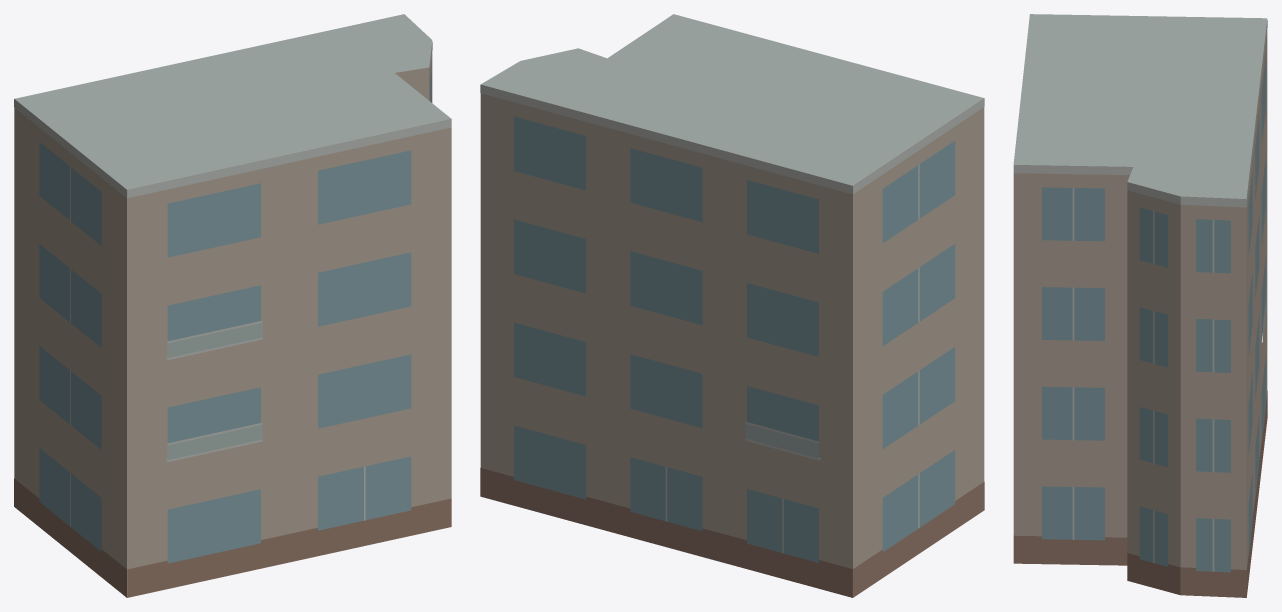
File: survey-upis-32632508.glb
3 renders of one model, left to right at view 1: azimuth 30°, elevation 25°; view 2: azimuth 150°, elevation 25°; view 3: azimuth 270°, elevation 25°, orthographic. The views are drawn at different scales.
Visible parts, largest first — view 1: survey-upis-32632508.tmp; view 2: survey-upis-32632508.tmp; view 3: survey-upis-32632508.tmp.
Part boxes in pixels (left/top/right/bottom): survey-upis-32632508.tmp: left=14, top=14, right=451, bottom=597; survey-upis-32632508.tmp: left=480, top=14, right=984, bottom=597; survey-upis-32632508.tmp: left=1013, top=14, right=1267, bottom=597.
Size of the model in its own units: 11.66 by 11.7 by 6.77.
